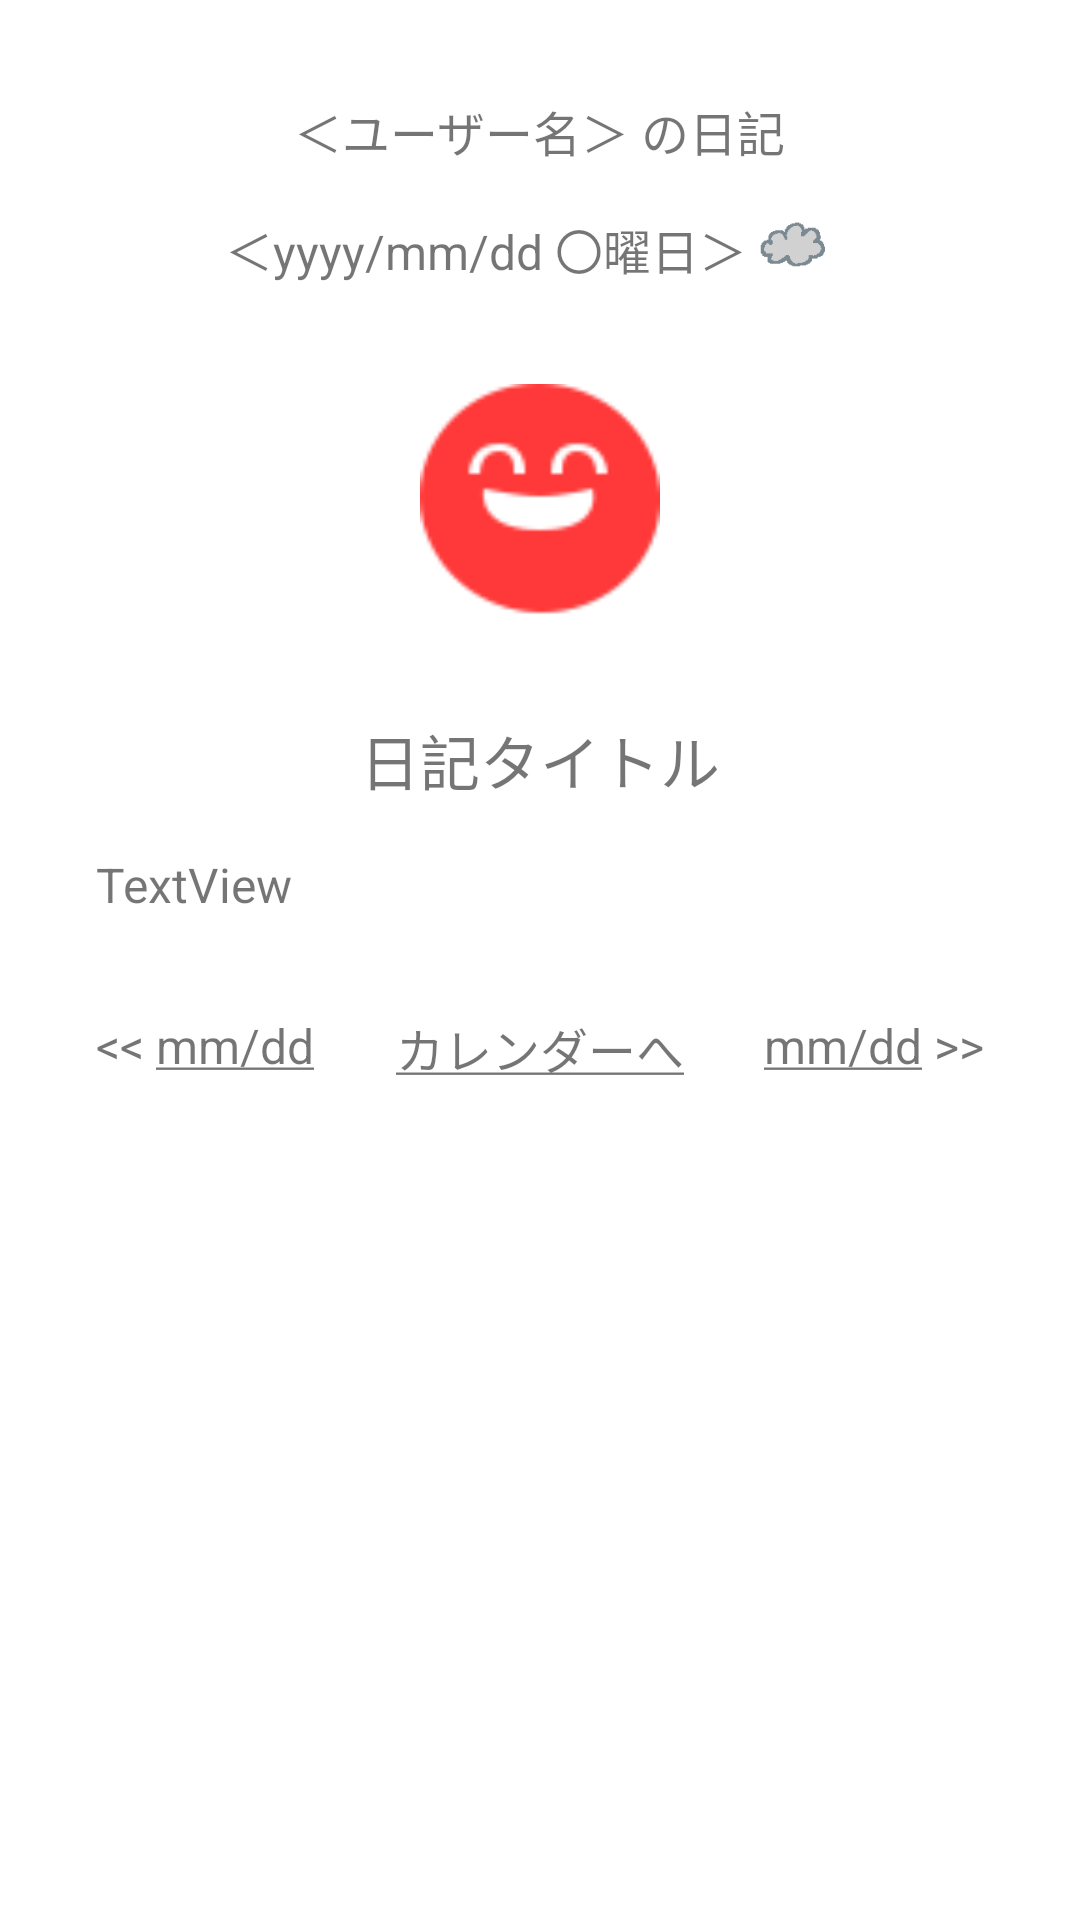

Icon bounding boxes for this 1080px x 1920px phone screenshot, format [x1,y1,x2,y2]:
cloudy: [760,222,825,267]
happy: [420,384,660,614]
